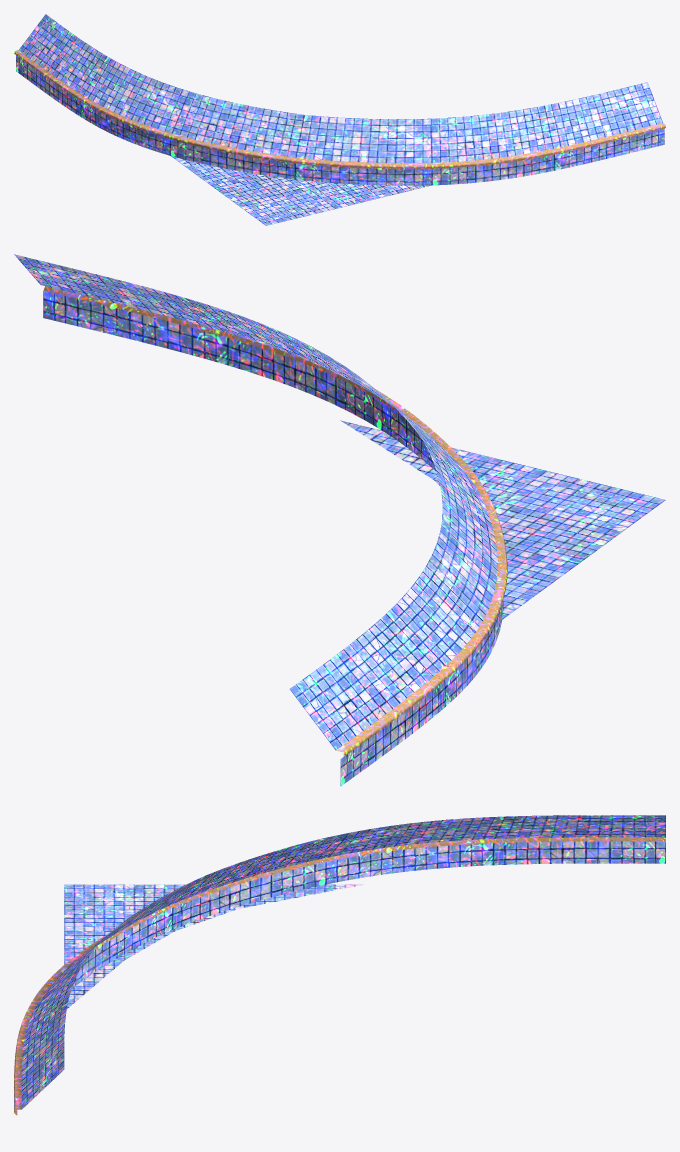
File: water_corner_large_SM.fbx
3 renders of one model, top to bottom at view 1: azimuth 30°, elevation 25°; view 2: azimuth 150°, elevation 25°; view 3: azimuth 270°, elevation 25°, orthographic. The views are drawn at different scales.
Visible parts, largest first — view 1: water_corner_large_SM_LOD0; view 2: water_corner_large_SM_LOD0; view 3: water_corner_large_SM_LOD0.
Part boxes in pixels (left/top/right/bottom): water_corner_large_SM_LOD0: left=14, top=14, right=665, bottom=225; water_corner_large_SM_LOD0: left=14, top=254, right=665, bottom=785; water_corner_large_SM_LOD0: left=14, top=815, right=665, bottom=1115.
Bounding box in the file's own units: 2220 × 2219 × 264.
3 materials, 3 textured.
